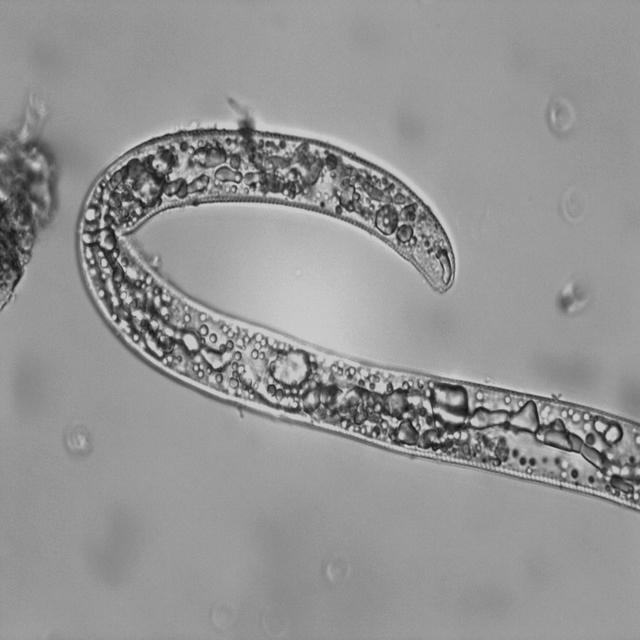Helicotylenchus: (70, 124, 640, 511)
